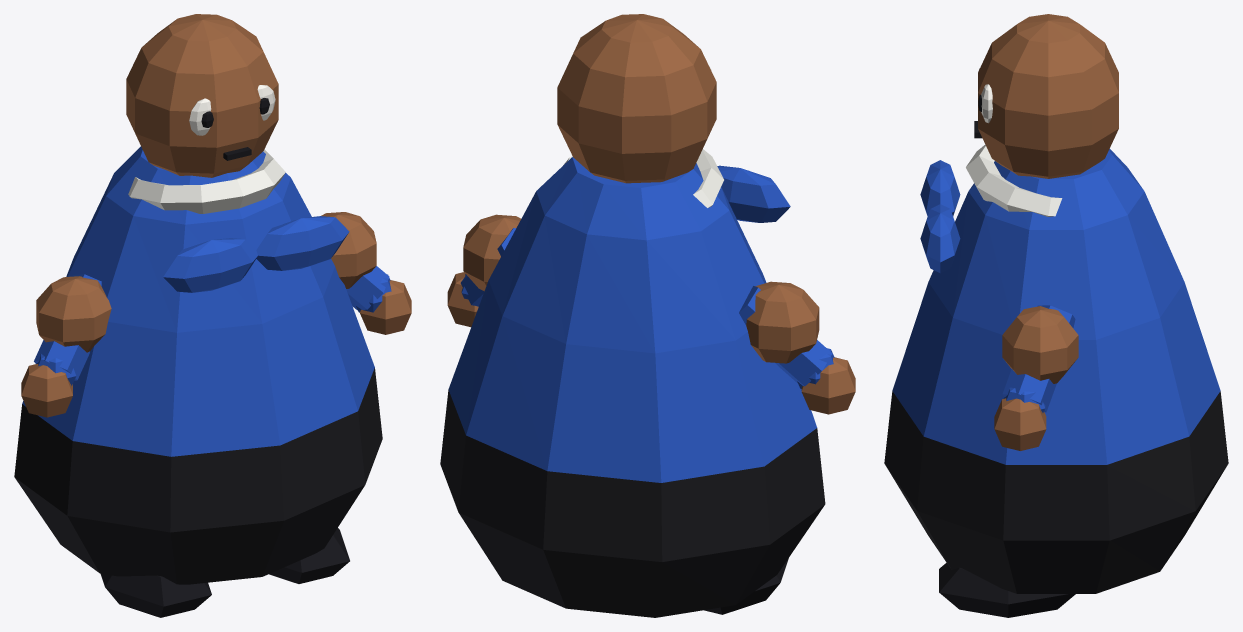
The model's file is npc_socio_b.glb.
3 renders of one model, left to right at view 1: azimuth 30°, elevation 25°; view 2: azimuth 150°, elevation 25°; view 3: azimuth 270°, elevation 25°, orthographic. The views are drawn at different scales.
Visible parts, largest first — view 1: body_tank_blue, body_shorts_black, head_skin_cacao, arms_skin_cacao, legs_black, body_towel_white, arms_tank_blue, face_white, face_black; view 2: body_tank_blue, body_shorts_black, head_skin_cacao, arms_skin_cacao, arms_tank_blue, body_towel_white, legs_black; view 3: body_tank_blue, body_shorts_black, head_skin_cacao, arms_skin_cacao, legs_black, body_towel_white, arms_tank_blue.
Boxes of the visible parts, x1,y1,x2,y2 form: body_tank_blue: (22,146,374,456); body_shorts_black: (14,368,382,584); head_skin_cacao: (126,14,278,177); arms_skin_cacao: (21,212,411,417); legs_black: (100,528,349,617); body_towel_white: (128,149,285,213); arms_tank_blue: (34,266,391,385); face_white: (189,85,275,135); face_black: (201,98,269,160); body_tank_blue: (448,157,817,482); body_shorts_black: (440,390,825,617); head_skin_cacao: (557,14,716,183); arms_skin_cacao: (447,214,855,414); arms_tank_blue: (460,228,834,388); body_towel_white: (563,149,723,207); legs_black: (704,558,788,614); body_tank_blue: (892,149,1220,464); body_shorts_black: (884,391,1228,593); head_skin_cacao: (978,14,1118,178); arms_skin_cacao: (994,306,1078,450); legs_black: (939,563,1075,617); body_towel_white: (966,144,1062,216); arms_tank_blue: (1002,305,1075,412).
Bounding box in the file's own units: 1.13 × 1.53 × 0.86.
